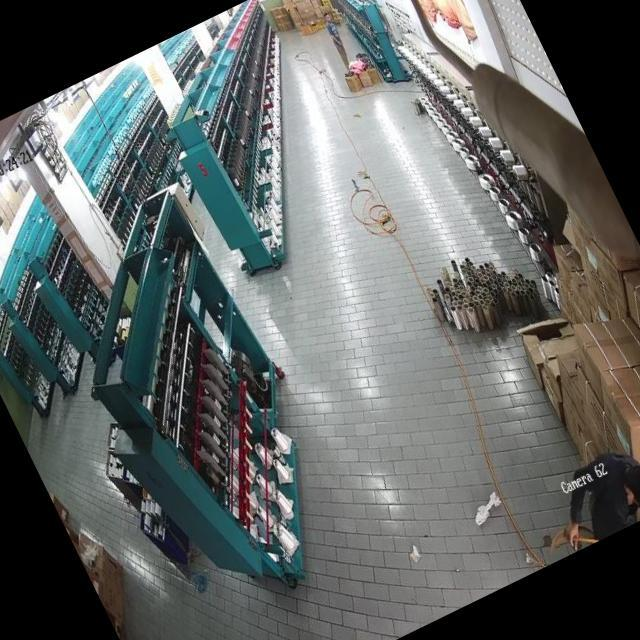person: (564, 427, 640, 538), (320, 11, 354, 64)
